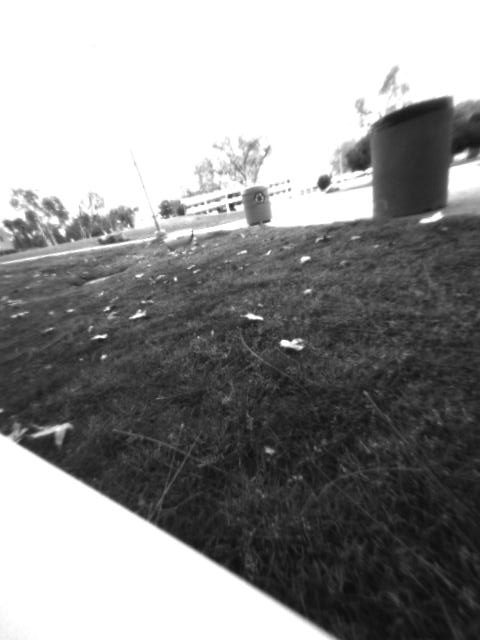trashcan: (368, 92, 453, 219), (240, 184, 275, 227)
